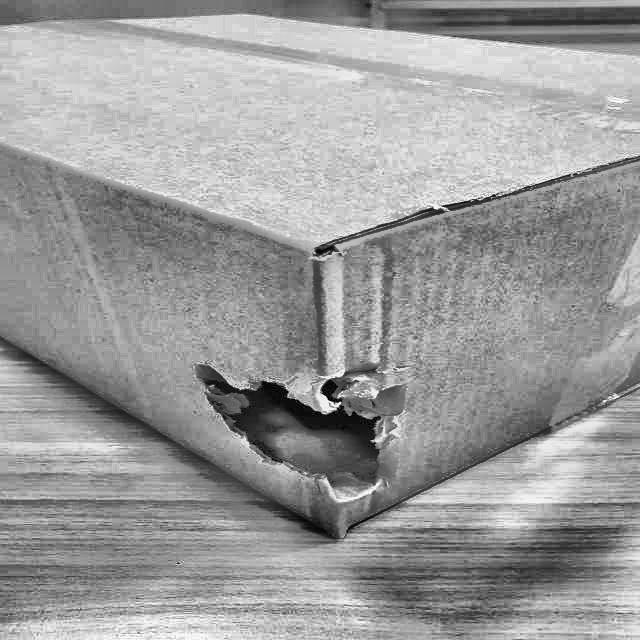box: (0, 4, 639, 559)
hole: (192, 357, 430, 505)
